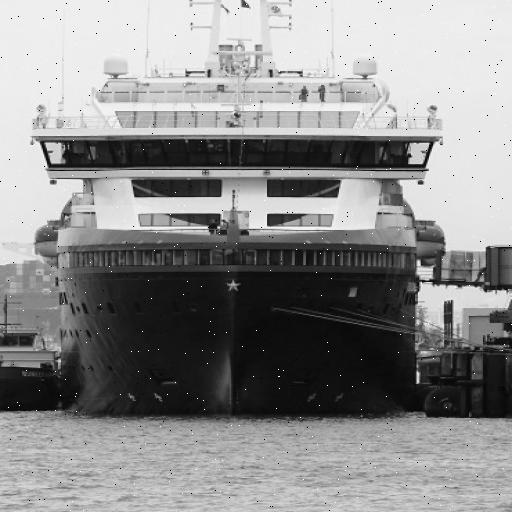cruises: (21, 1, 465, 427)
